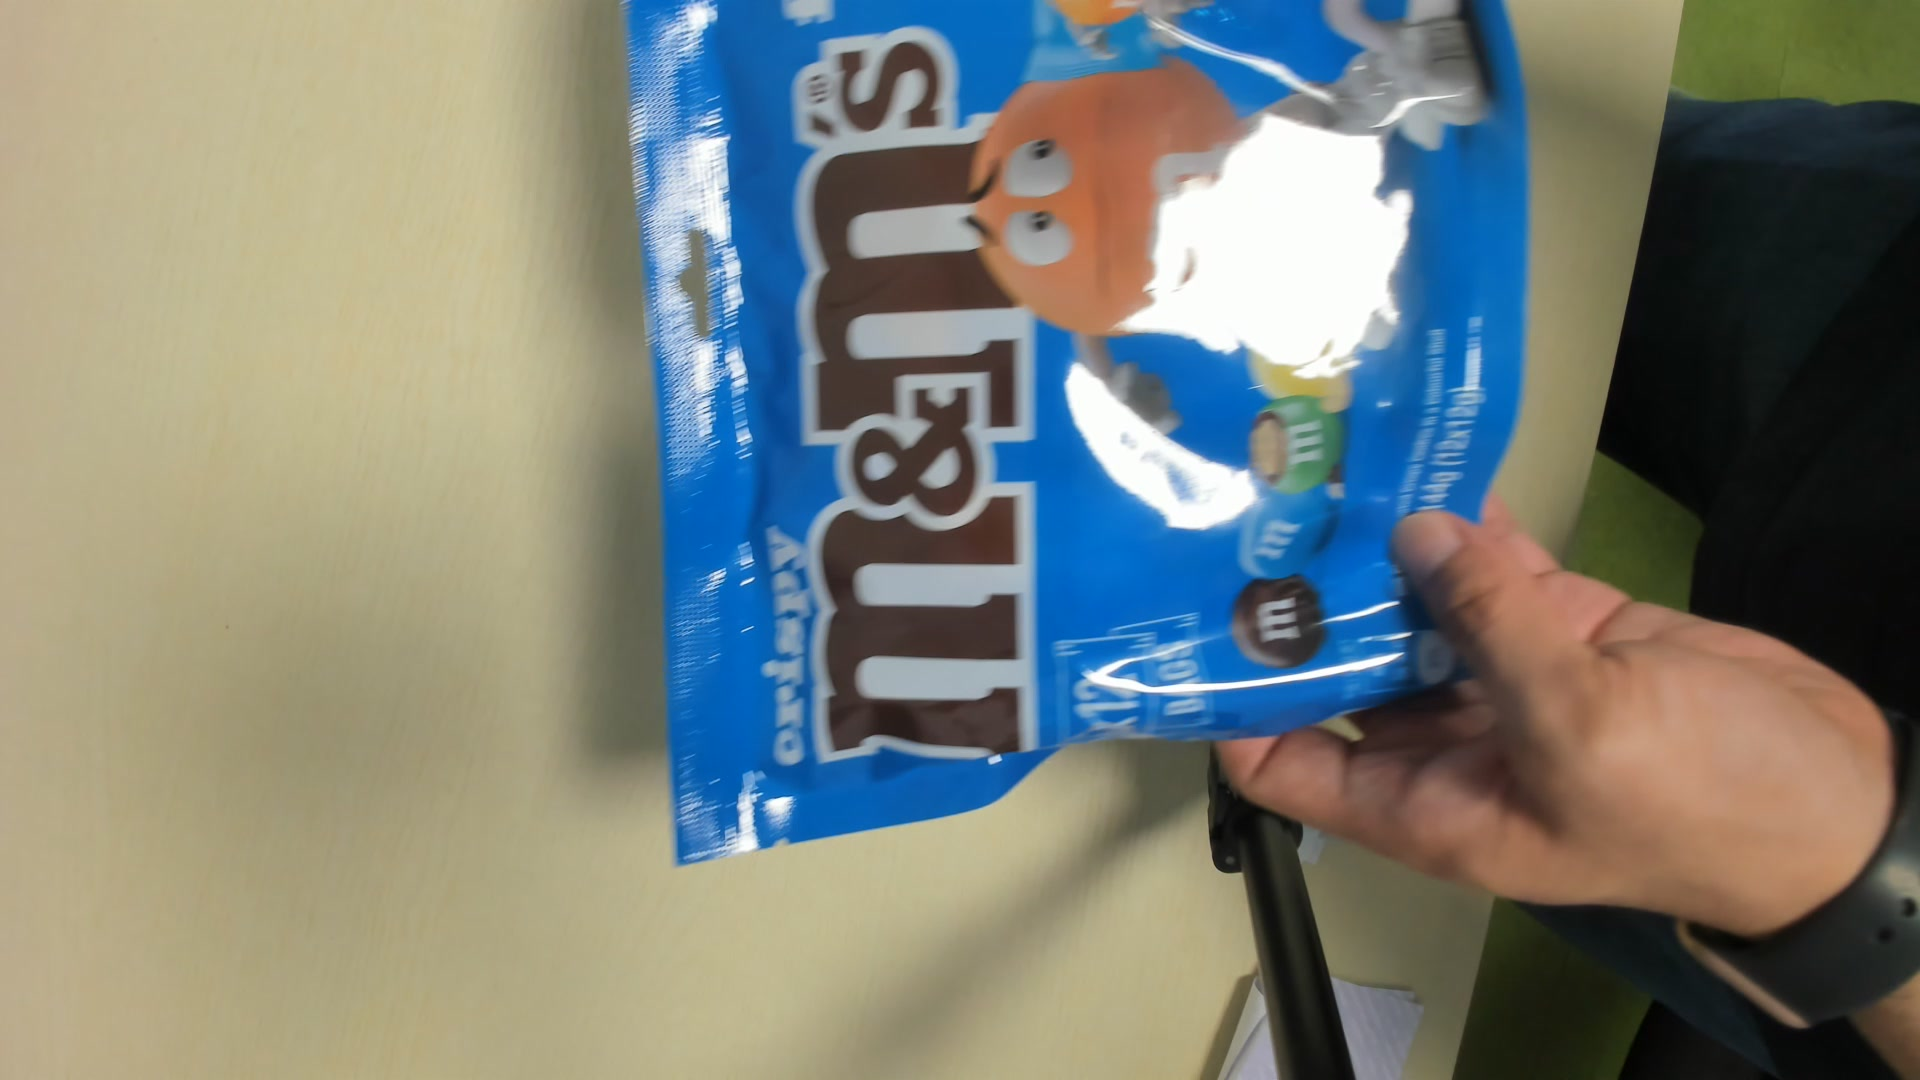SweetsChocolatesOthers_100-199g_Halal_Nonhealthy: (616, 1, 1524, 862)
